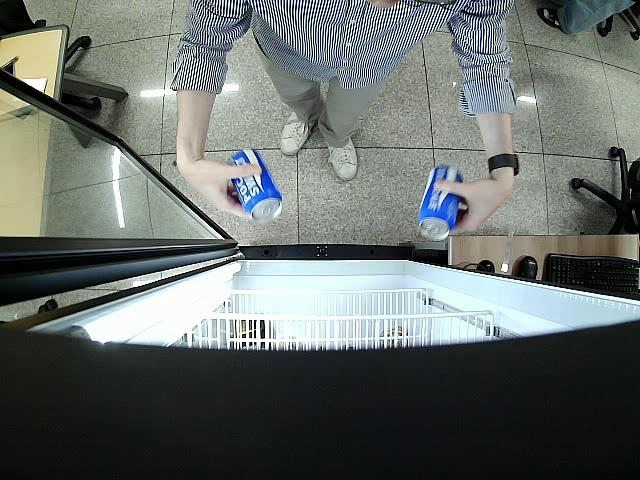00_hand: (168, 155, 260, 225), (432, 176, 502, 238)
13_pocariSweat: (228, 148, 280, 223), (415, 163, 465, 240)
